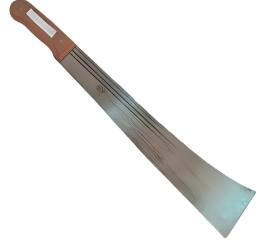MACHETTE: (0, 0, 258, 242)
